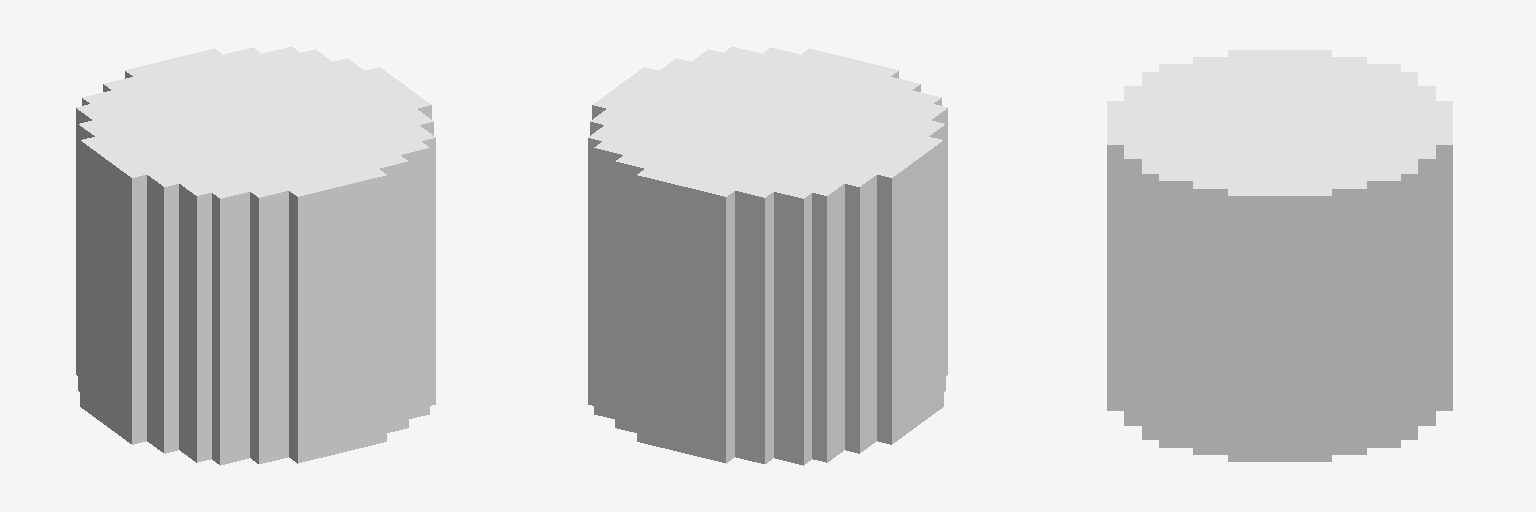
File: android-6-body.obj
3 renders of one model, left to right at view 1: azimuth 30°, elevation 25°; view 2: azimuth 150°, elevation 25°; view 3: azimuth 270°, elevation 25°, orthographic.
Parts seen in each view (by area): view 1: body; view 2: body; view 3: body.
Part boxes in pixels (x1,y1,x2,y2): body: (76, 46, 435, 465); body: (588, 46, 947, 465); body: (1107, 50, 1452, 461).
Size of the model in its own units: 2 by 1.7 by 2.